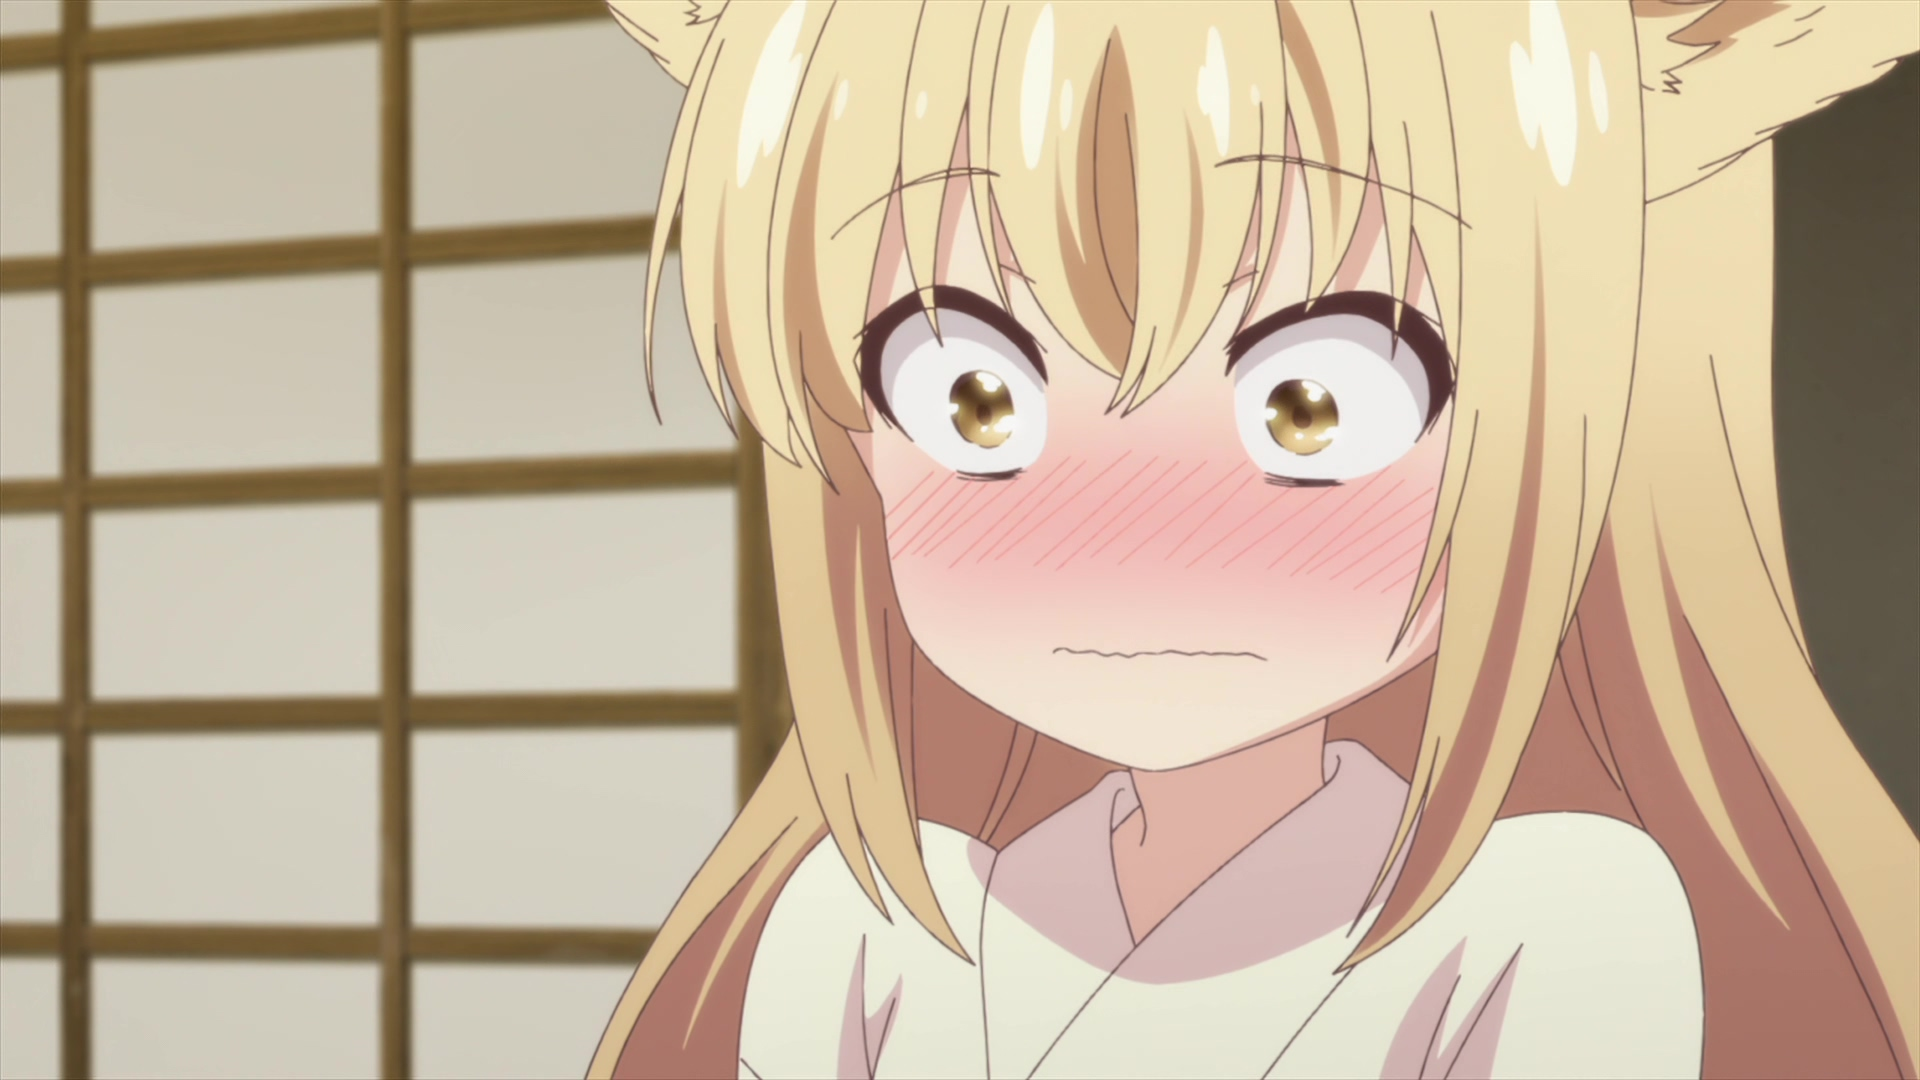柚: (585, 1, 1920, 1080)
